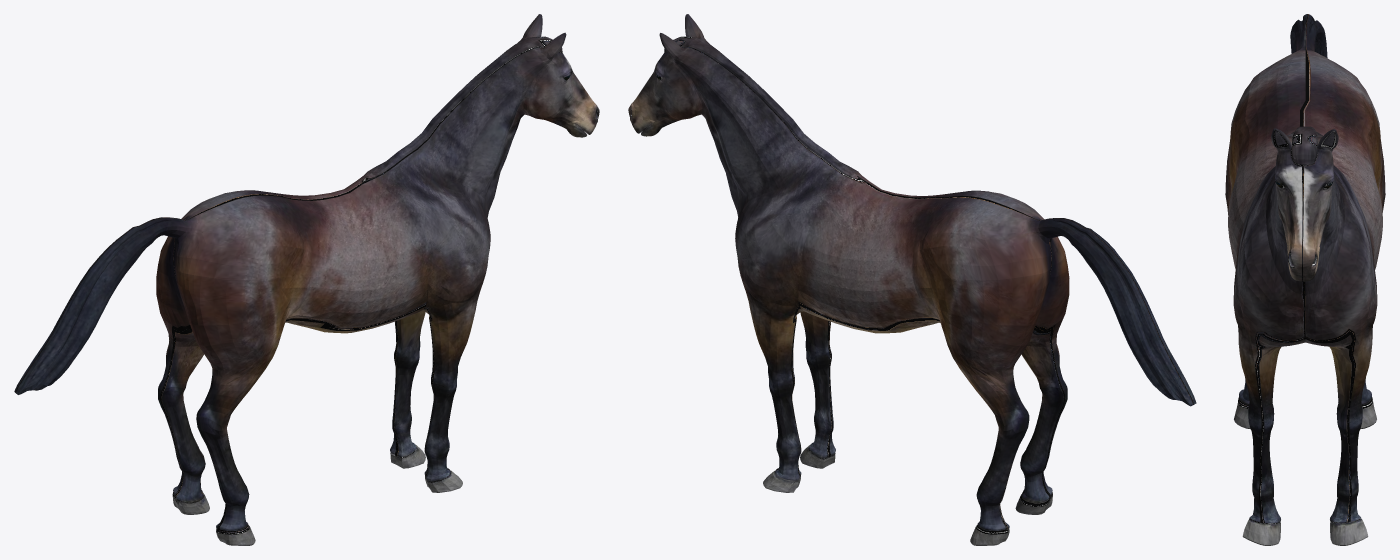
The model's file is V84QBBLV93SZJB640E7HIFO94.glb.
3 views of the same model, side by side, from view 1: azimuth 30°, elevation 25°; view 2: azimuth 150°, elevation 25°; view 3: azimuth 270°, elevation 25° (orthographic). The views are drawn at different scales.
Bounding box in the file's own units: 2.5 × 1.76 × 0.531.
Materials: 1 (1 with a texture image).
